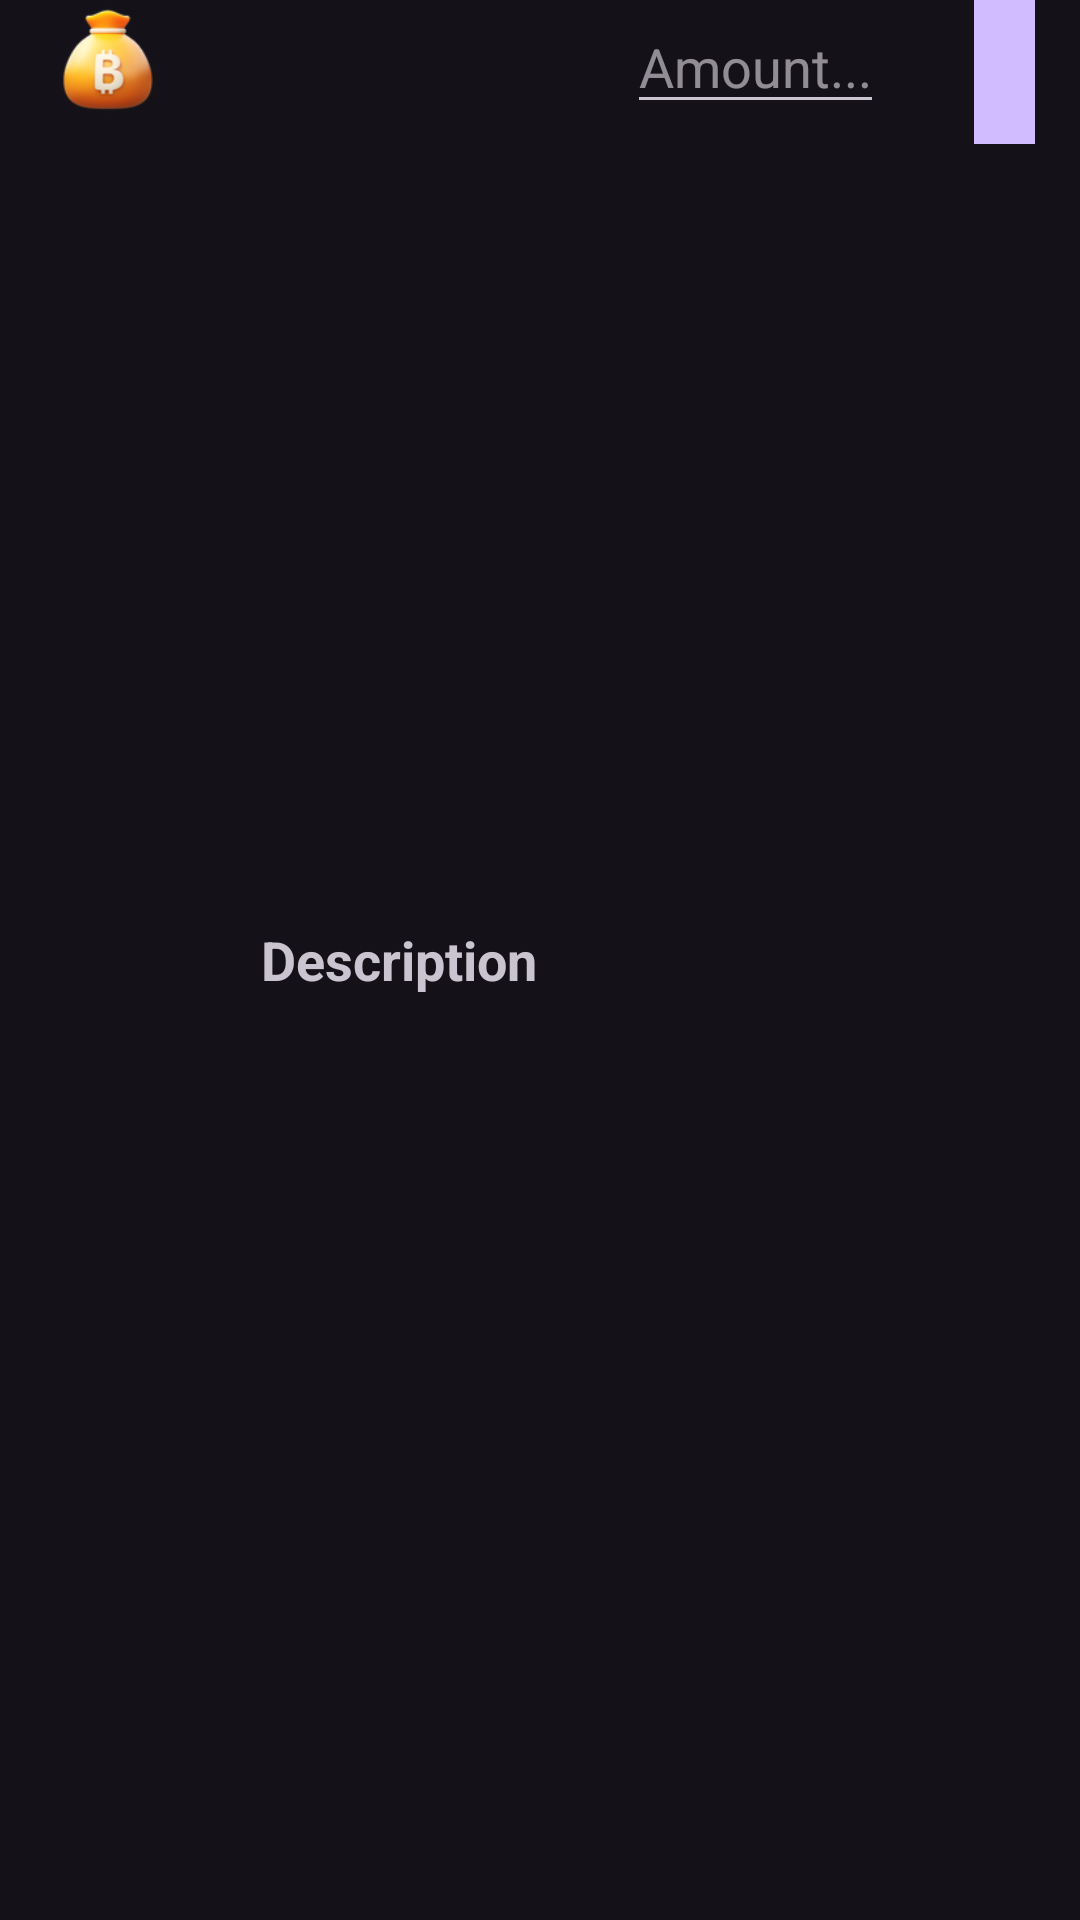

Screen size 1080x1920. Icon name, then its center in pixels as (x=x, y=y):
crypto: (x=108, y=59)
